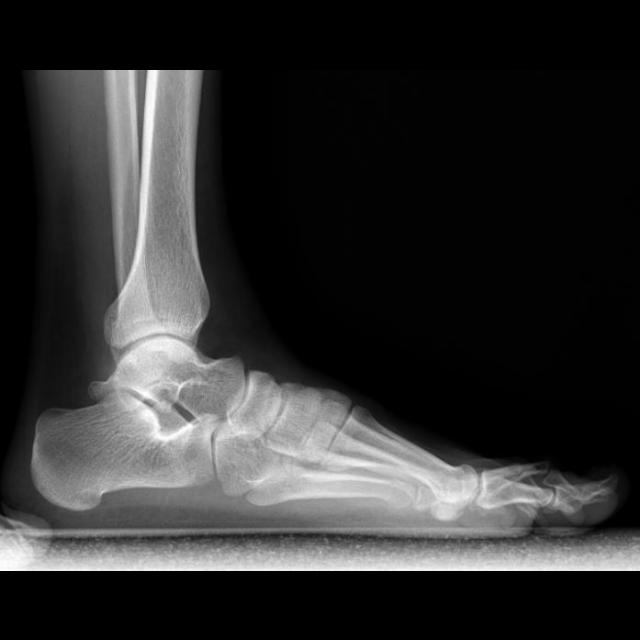a: (31, 382, 221, 510)
b: (224, 370, 282, 440)
c: (324, 404, 481, 523)
